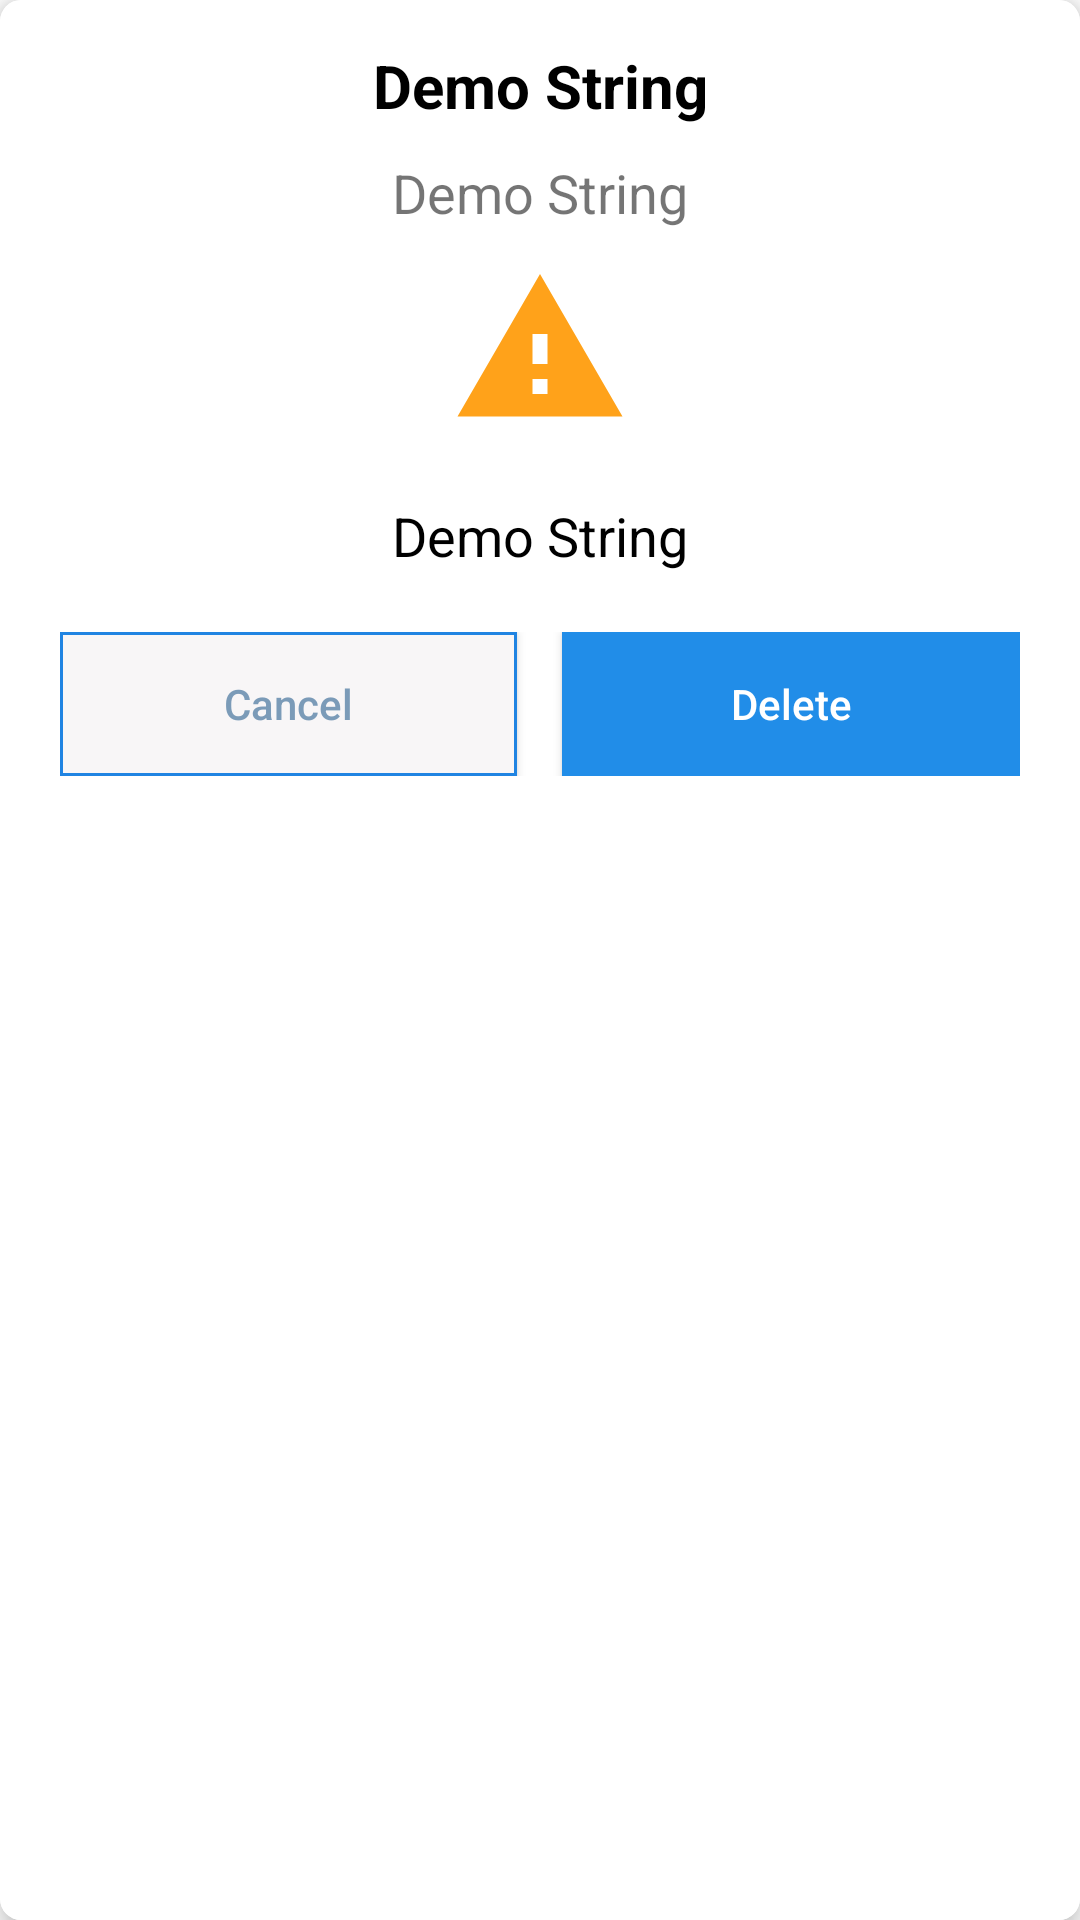

Where icons sit on this 1080px×1920px app screen, as (x1, y1, x2, y2):
warning: (457, 274, 623, 417)
